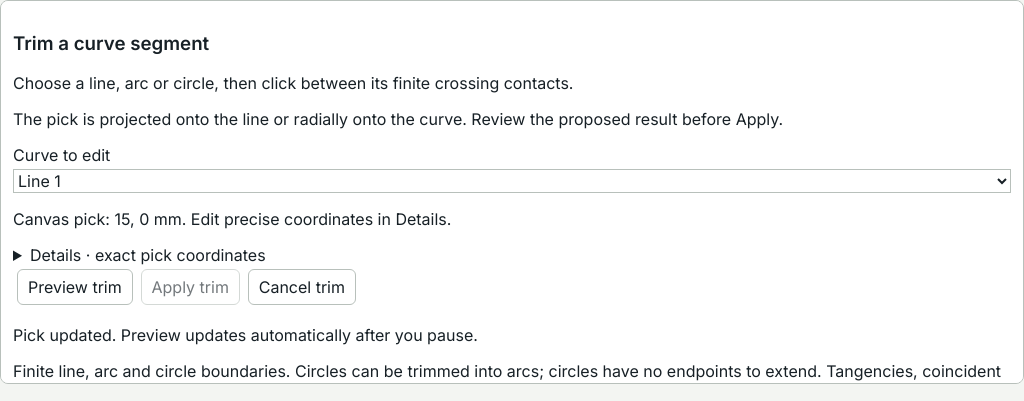
Test case: recovers from an unresponsive preview at timeout and ignores its late response
Click the button "Preview trim" at (75, 287), box [17, 269, 133, 305]
Wait 120000 ms
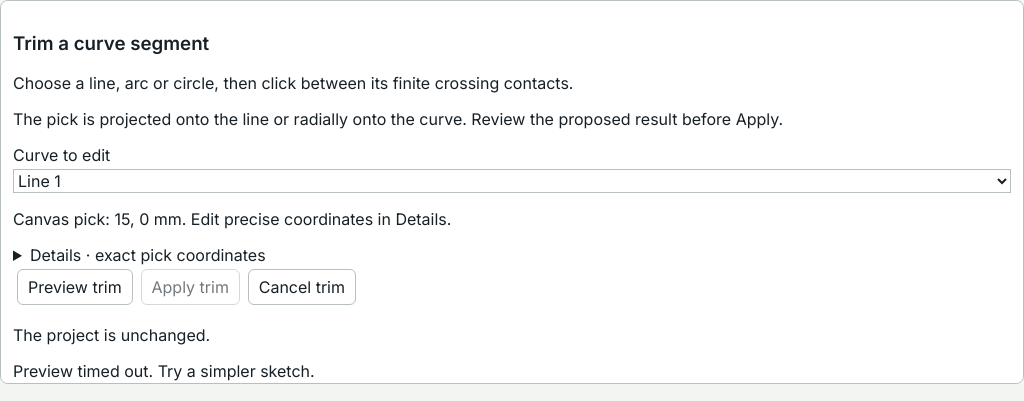
Expected: the button "Apply trim" is disabled, [141, 269, 240, 305]
Now the message "Preview timed out. Try a simpler sketch." is shown, box [13, 361, 315, 381]
